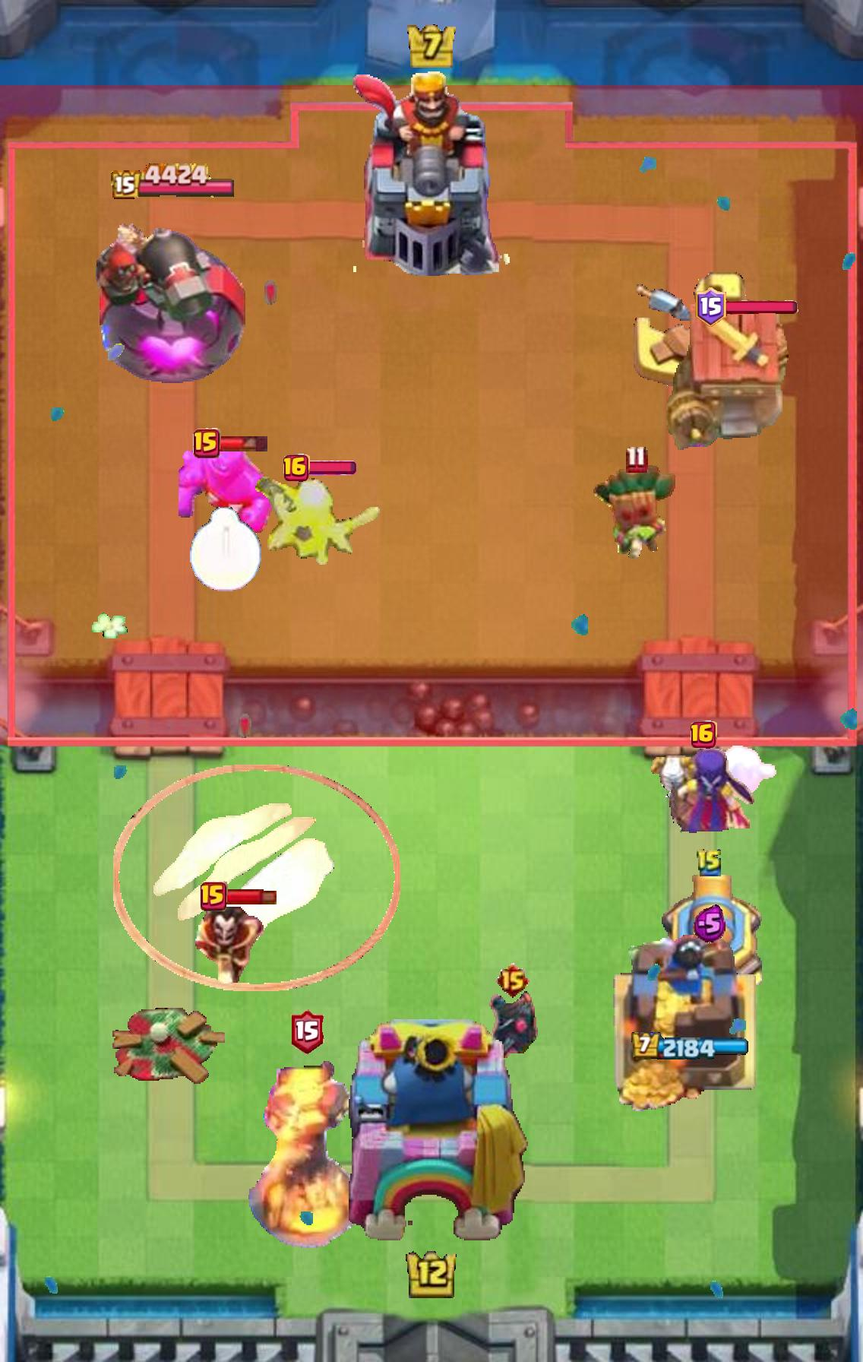bar: (722, 299, 798, 315), (223, 887, 277, 905), (217, 434, 270, 452), (306, 461, 356, 475)
bar-level: (291, 1009, 324, 1055), (495, 962, 530, 999), (695, 287, 727, 327), (193, 428, 221, 458), (200, 881, 228, 911), (283, 454, 310, 482), (690, 720, 717, 748), (625, 445, 648, 474)
